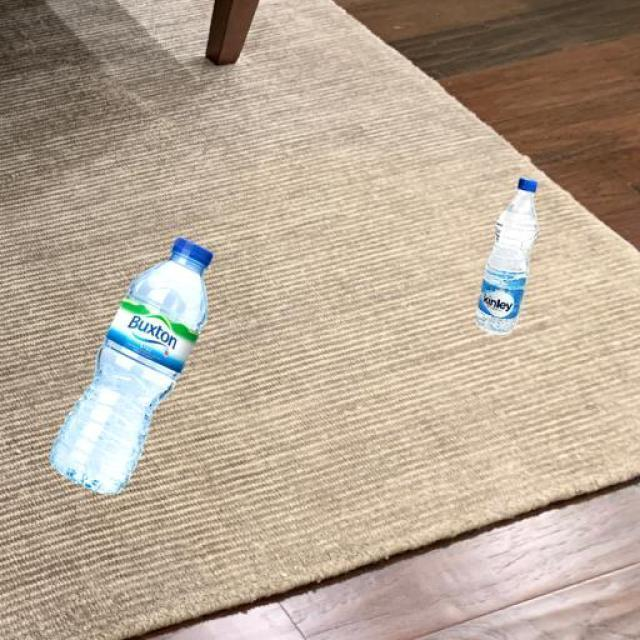bottle: (48, 235, 214, 495), (474, 175, 540, 335)
